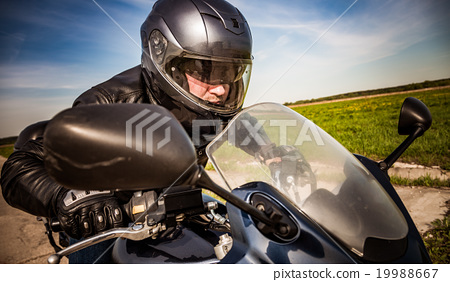helmet: (142, 4, 254, 112)
